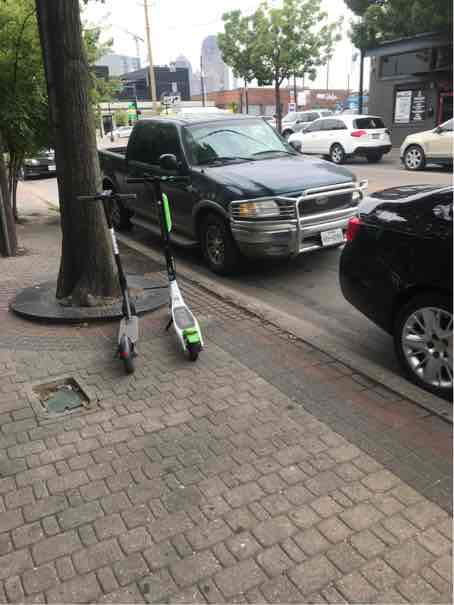scooter: (120, 166, 196, 364), (137, 176, 215, 361)
